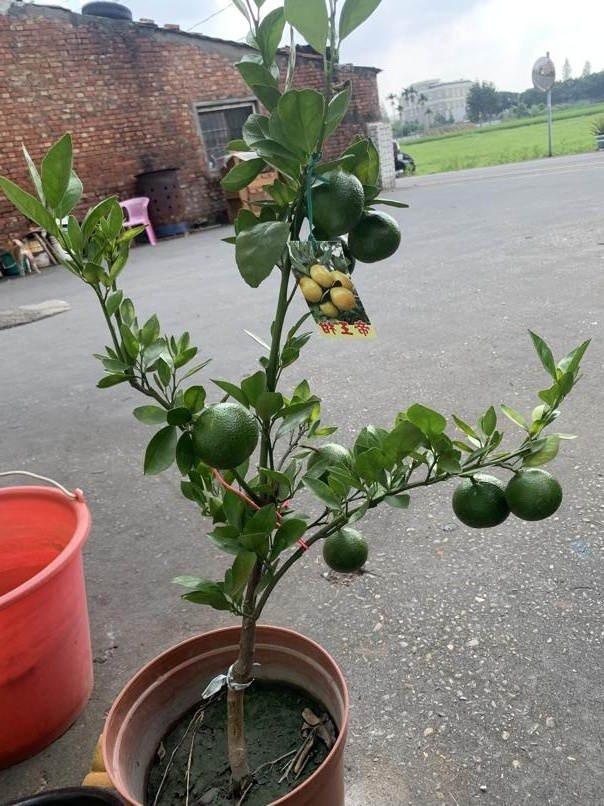Tangerine: (188, 400, 260, 468), (302, 170, 366, 236), (509, 466, 565, 525), (449, 474, 510, 528), (4, 784, 142, 805), (352, 210, 403, 262), (322, 527, 371, 574)
